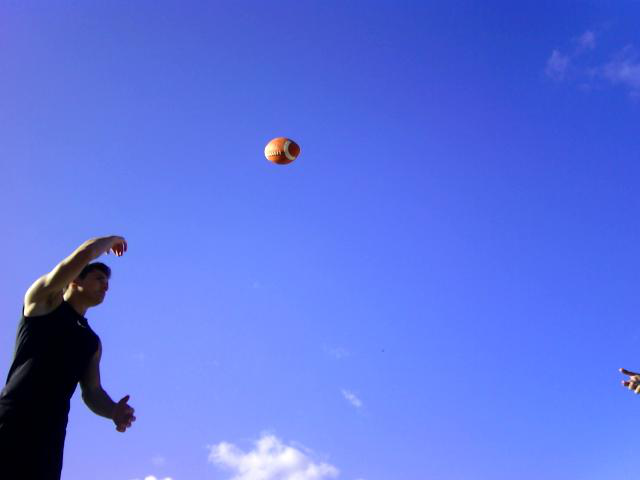football: (262, 135, 302, 169)
